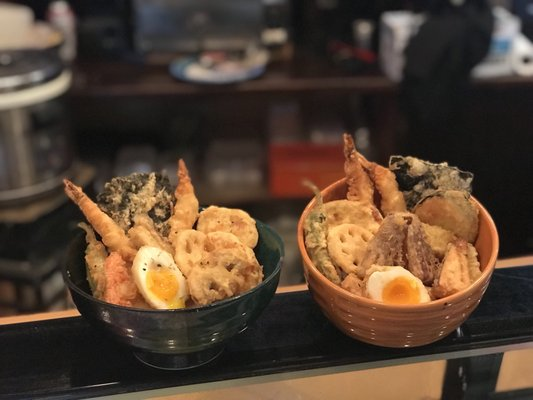sushi: (62, 159, 285, 370), (297, 144, 500, 349)
